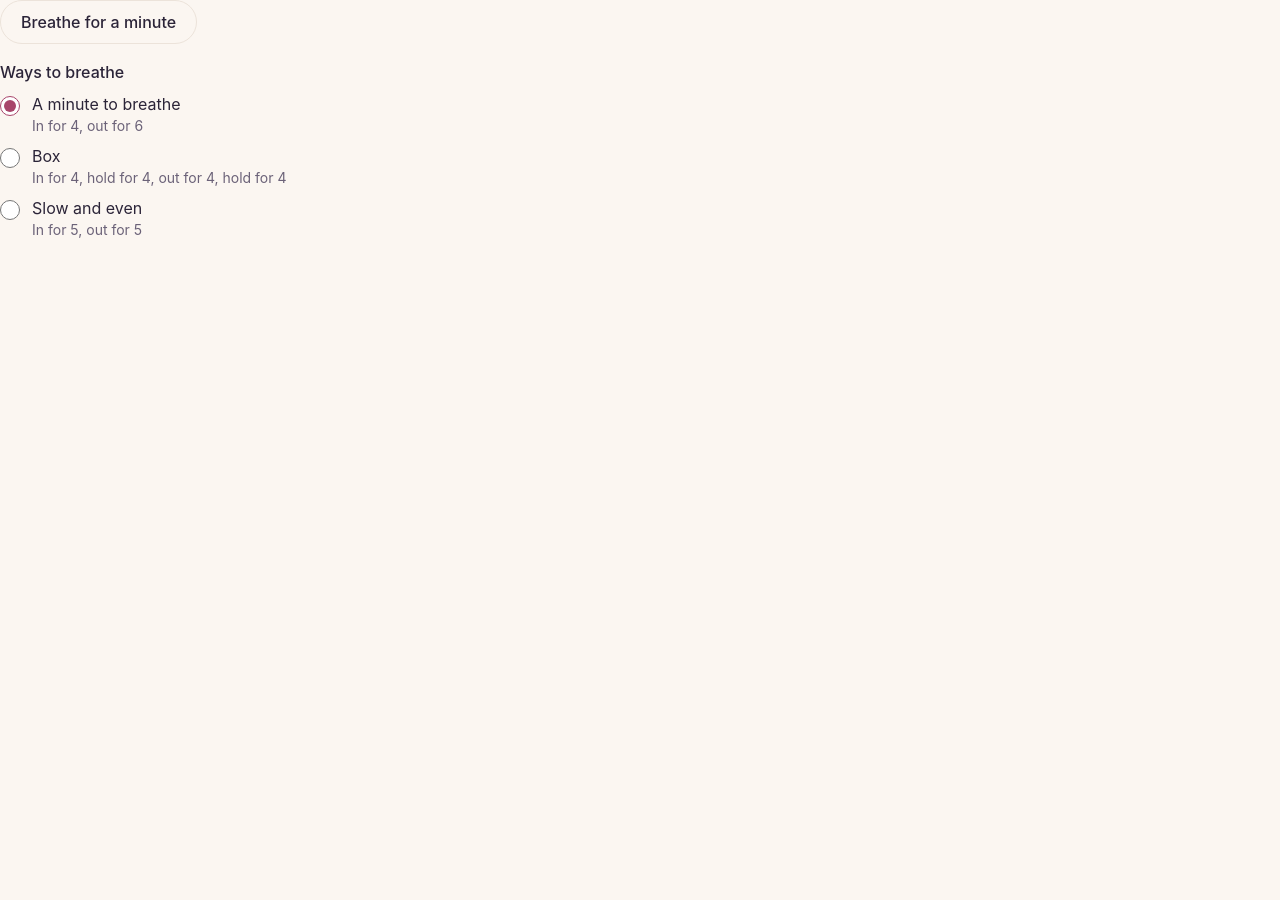
Scenario: Breathe in the toolbox › with Plus: the three ways to breathe, today's first and chosen; a choice is kept and the button starts it
expect the element "Ways to breathe" is shown: met, box [0,62,286,238]
expect the radio button with test id "toolbox-pattern-even-4-6" is checked: met, box [0,96,20,116]
Click the radio button with test id "toolbox-pattern-box" at (10, 158), box [0,148,20,168]
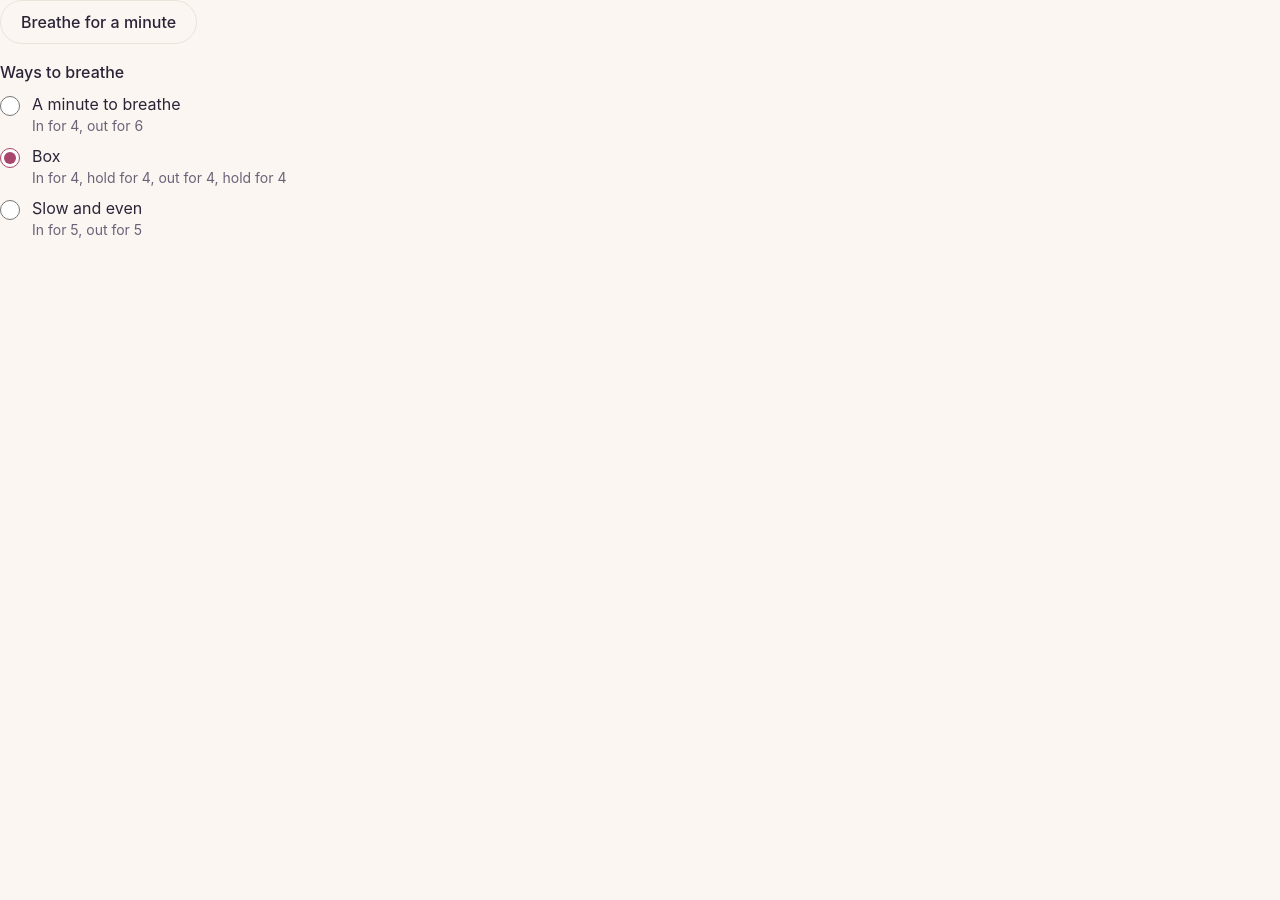
Click the button with test id "toolbox-breathe" at (99, 22), box [0,0,197,44]
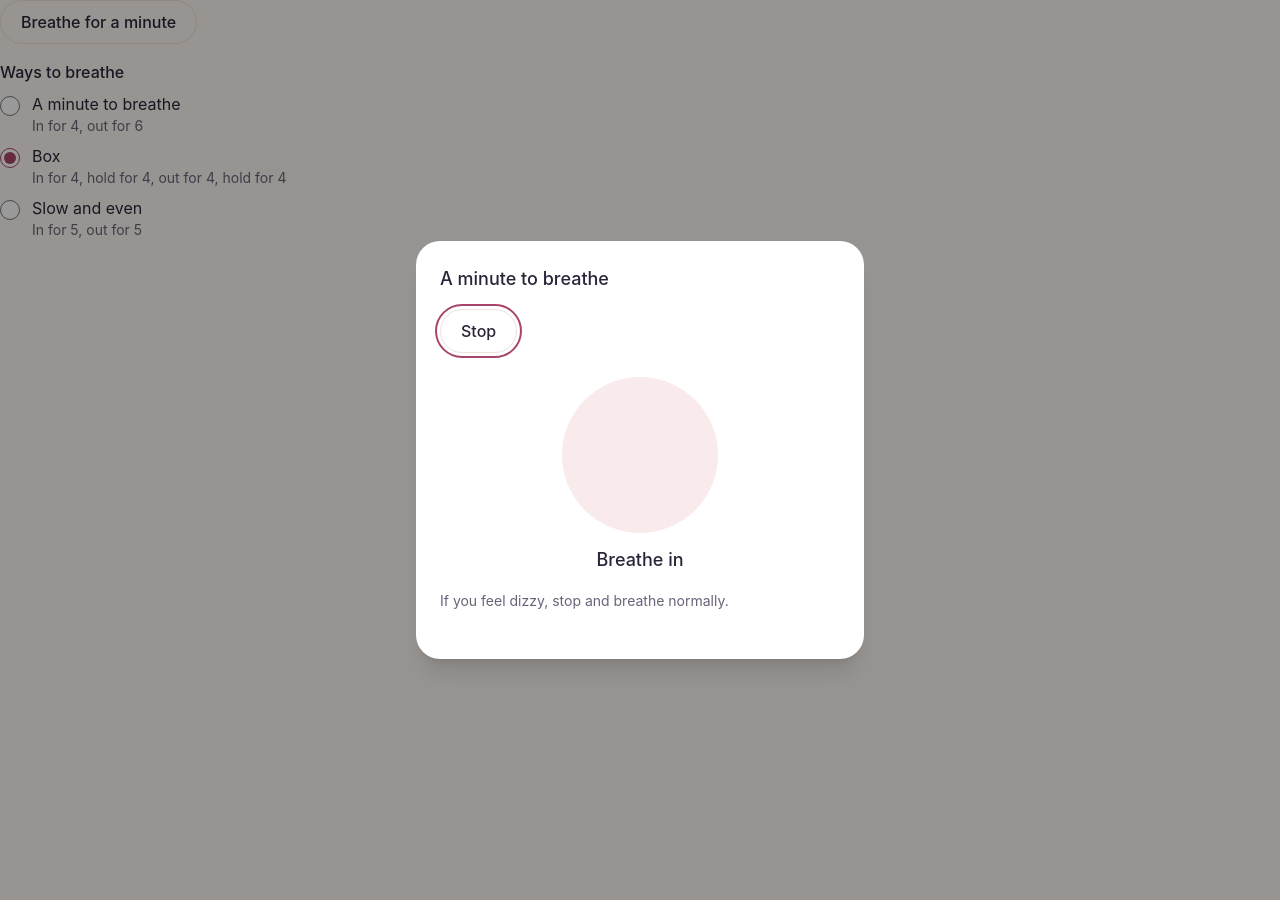
expect the dialog with test id "breathing" is shown: met, box [416,241,864,659]
